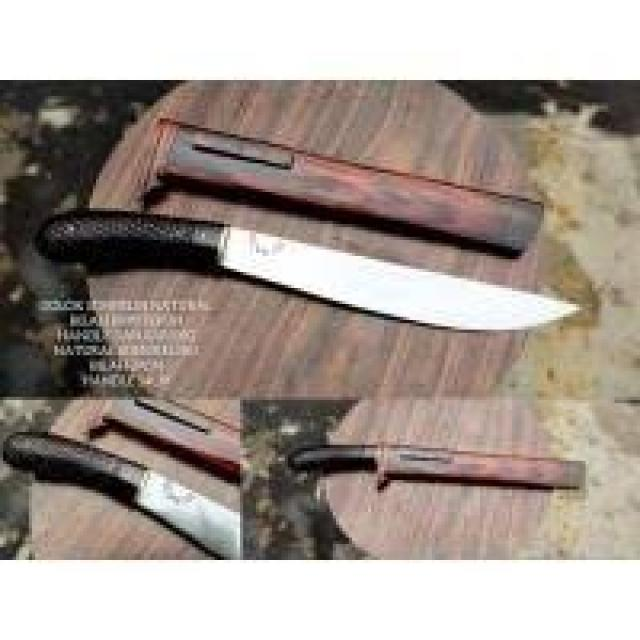Knife: (35, 138, 598, 361)
